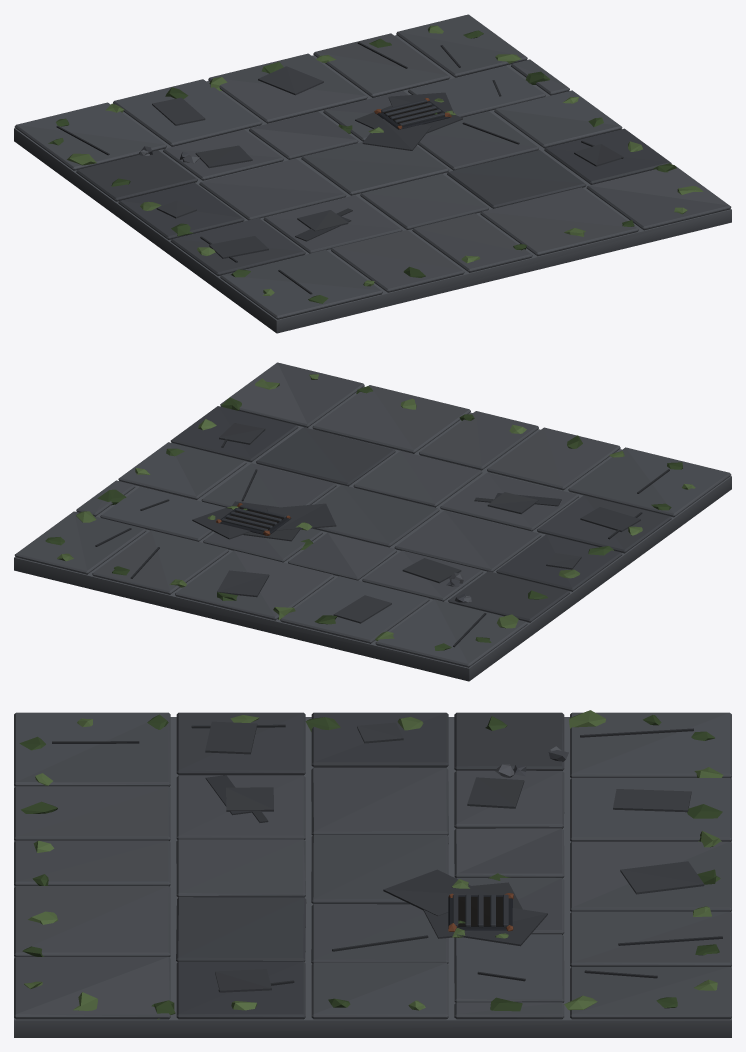
Rendered from dun-room-floor.glb.
3 views of the same model, one above another, from view 1: azimuth 30°, elevation 25°; view 2: azimuth 150°, elevation 25°; view 3: azimuth 270°, elevation 25° (orthographic). The views are drawn at different scales.
Parts seen in each view (by area): view 1: dun_room_floor; view 2: dun_room_floor; view 3: dun_room_floor.
Boxes of the visible parts, bbox=[...] form: dun_room_floor: bbox=[14, 14, 731, 333]; dun_room_floor: bbox=[14, 362, 731, 681]; dun_room_floor: bbox=[14, 710, 731, 1037].
Size of the model in its own units: 4 by 0.1979 by 4.
